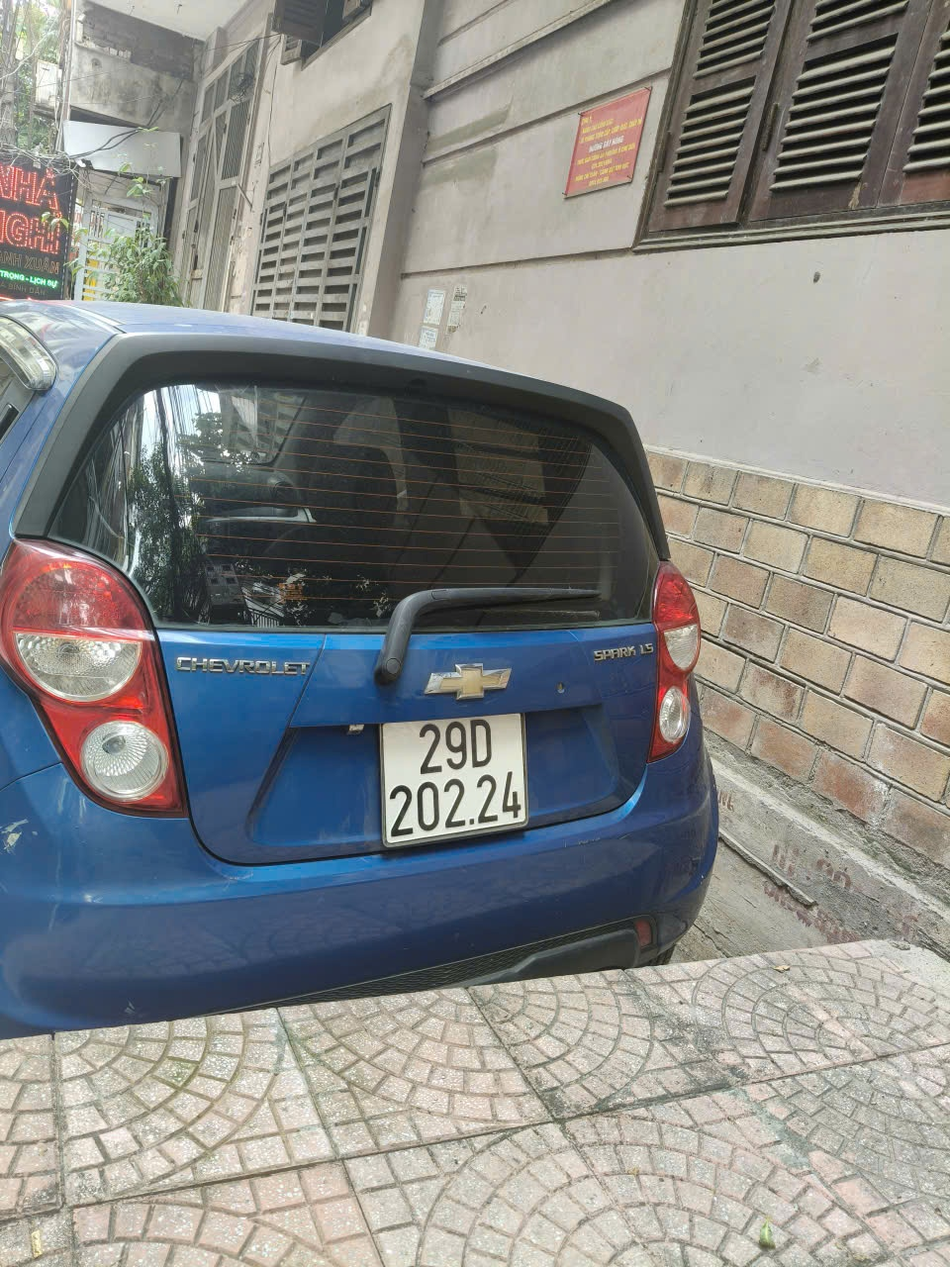plate: (376, 826, 530, 862)
